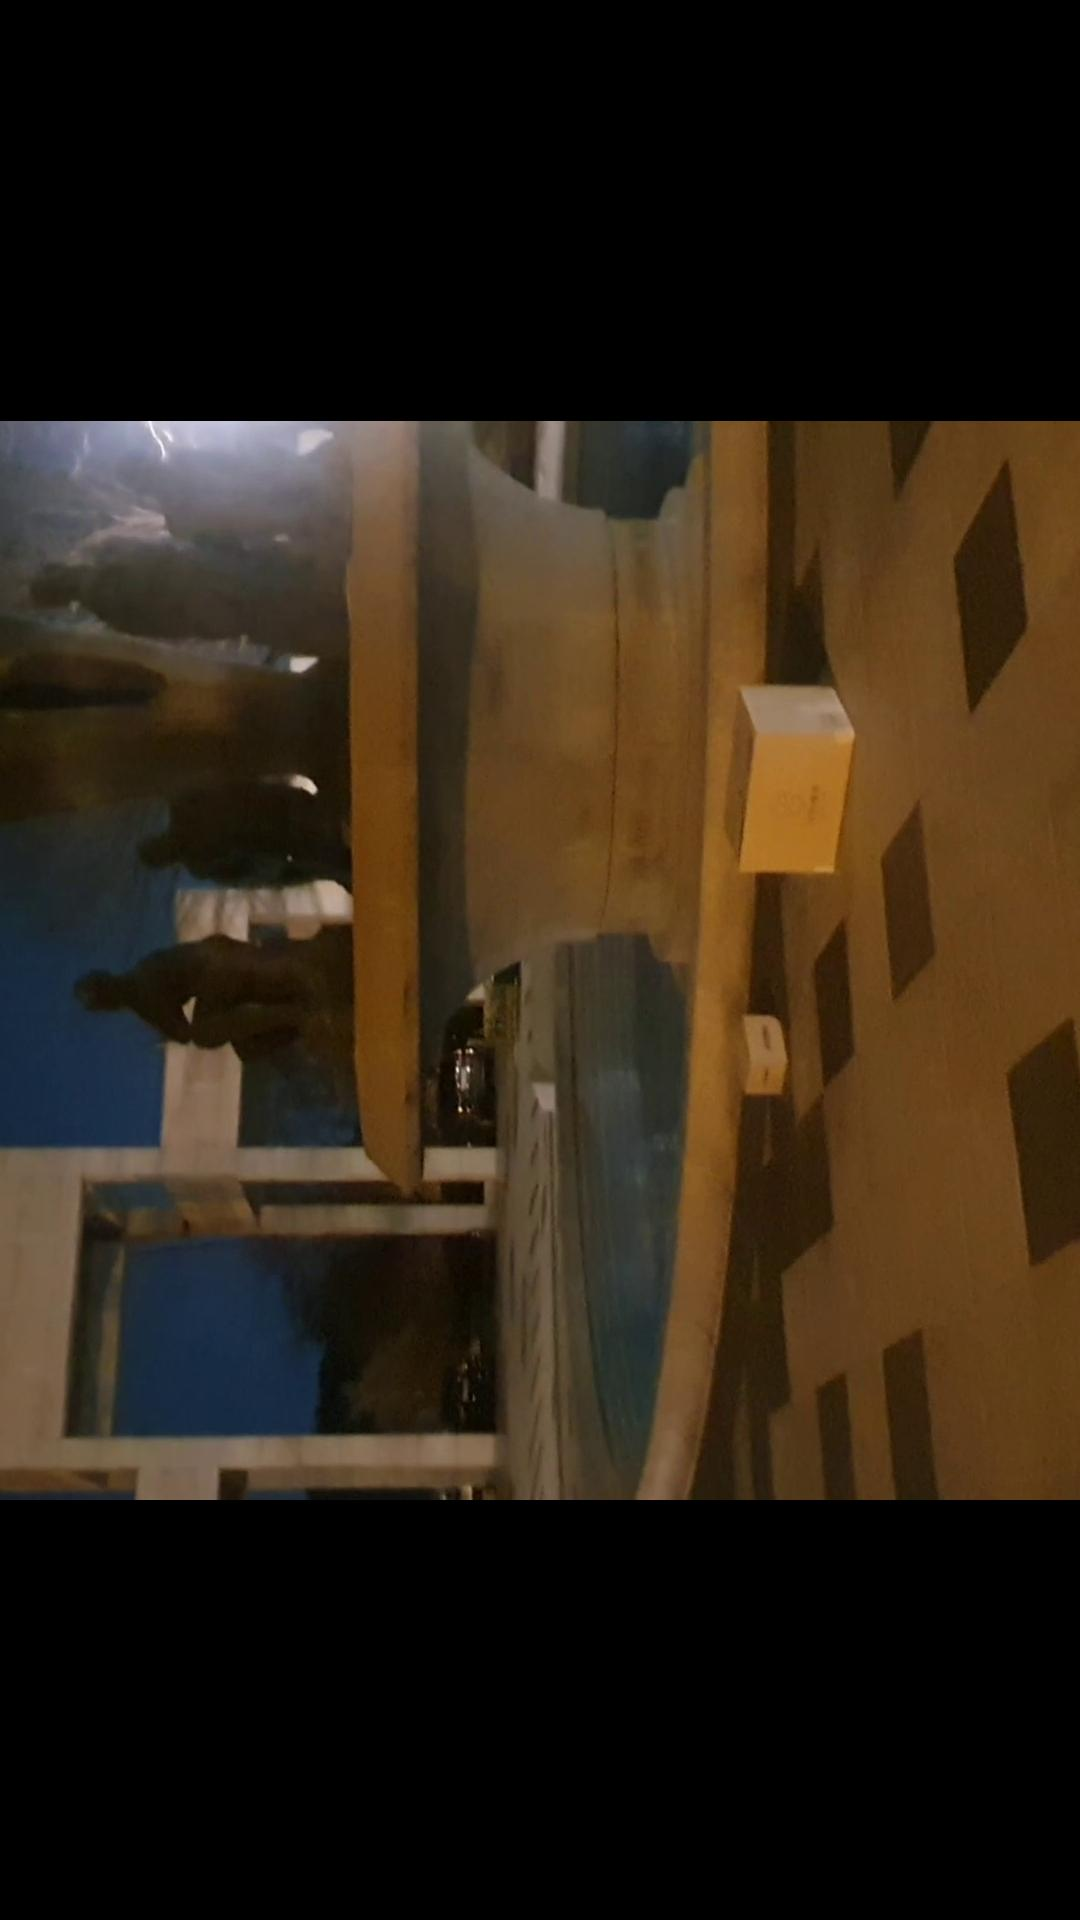Box: (713, 673, 855, 880), (728, 1000, 795, 1097)
